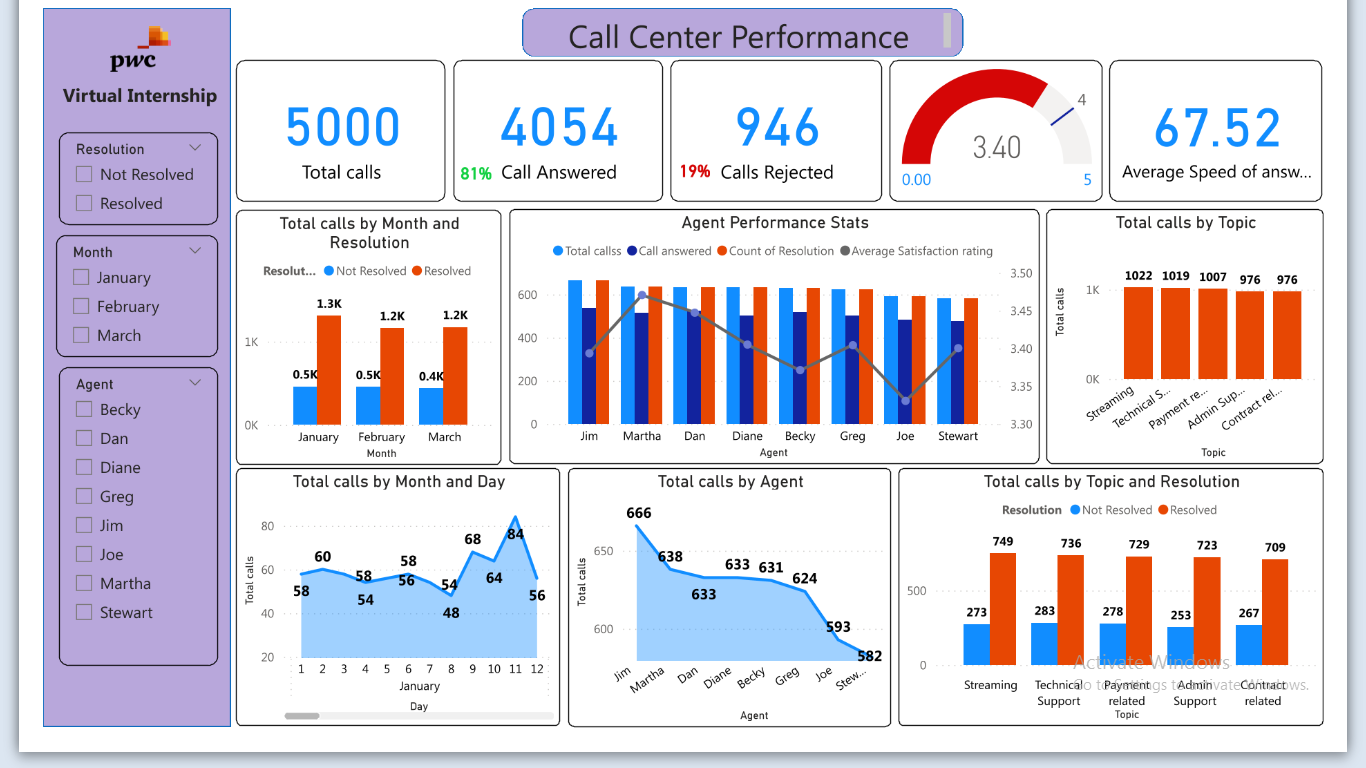

What the dashboard file says about the page in this screenshot:
{"tool":"powerbi","page":{"name":"Performance analysis","canvas":[1280,720],"ordinal":0},"visuals":[{"type":"shape","box":[478.6,0,441.2,48.9],"z":0},{"type":"shape","box":[0,0,188.3,718.6],"z":1000},{"type":"card","title":"Total calls","fields":{"Values":["Sheet1.Total calls"]},"box":[192.6,51.7,209.8,142.3],"z":2000},{"type":"areaChart","fields":{"Category":["PWC call center analysis.Agent"],"Y":["PWC call center analysis.Total calls"]},"box":[524.5,460.2,323.3,258.3],"z":3000},{"type":"card","title":"Answered calls","fields":{"Values":["Sheet1.call answered"]},"box":[409.9,51.7,209.8,142.3],"z":4000},{"type":"card","title":"Calls rejected","fields":{"Values":["Sheet1.call abonded"]},"box":[627.3,51.7,211.3,142.3],"z":5000},{"type":"card","title":"% of call answered","fields":{"Values":["Sheet1.% of call answered"]},"box":[408.1,150.9,50.3,24.4],"z":6000},{"type":"card","title":"% of call abonded","fields":{"Values":["Sheet1.% of call abonded"]},"box":[628,149.5,47.4,24.4],"z":7000},{"type":"columnChart","fields":{"Category":["PWC call center analysis.Topic"],"Y":["PWC call center analysis.Total calls"]},"box":[1002.6,201.2,277.4,254.4],"z":8000},{"type":"areaChart","fields":{"Category":["PWC call center analysis.Date.Variation.Date Hierarchy.Month","PWC call center analysis.Date.Variation.Date Hierarchy.Day"],"Y":["PWC call center analysis.Total calls"]},"box":[193.3,460,323.3,258.3],"z":9000},{"type":"slicer","title":"Month","fields":{"Values":["PWC call center analysis.Date.Variation.Date Hierarchy.Month"]},"box":[12.9,227.1,162.4,122.2],"z":10000},{"type":"slicer","fields":{"Values":["PWC call center analysis.Agent"]},"box":[15.8,359.3,159.5,298.9],"z":11000},{"type":"clusteredColumnChart","fields":{"Category":["Sheet1.Topic"],"Y":["PWC call center analysis.Total calls"],"Series":["PWC call center analysis.Resolution"]},"box":[855,460,425,258.3],"z":12000},{"type":"gauge","fields":{"Y":["Sheet1.Satisfaction rating"],"MaxValue":["PWC call center analysis.Target"],"TargetValue":["PWC call center analysis.Target 1"]},"box":[846.1,51.7,212.7,142.3],"z":13000},{"type":"card","fields":{"Values":["Sheet1.Speed of answer in seconds"]},"box":[1066.3,51.7,212.7,142.3],"z":14000},{"type":"clusteredColumnChart","fields":{"Category":["PWC call center analysis.Date.Variation.Date Hierarchy.Month"],"Y":["PWC call center analysis.Total calls"],"Series":["PWC call center analysis.Resolution"]},"box":[193.3,201.7,265,255],"z":15000},{"type":"lineClusteredColumnComboChart","title":"Agent Performance Stats","fields":{"Category":["Sheet1.Agent"],"Y":["Sheet1.Total callss","PWC call center analysis.call answered","PWC call center analysis.Resolution"],"Y2":["Sheet1.Satisfaction rating"]},"box":[465.6,201.2,530.3,254.4],"z":16000},{"type":"textbox","box":[485.7,0,426.8,48.9],"z":17000},{"type":"image","box":[54.6,12.9,84.8,56],"z":18000},{"type":"textbox","box":[1.4,69,191.1,53.2],"z":19000},{"type":"slicer","fields":{"Values":["PWC call center analysis.Resolution"]},"box":[15.8,123.6,159.5,93.4],"z":20000}]}

Visuals, with their boxes in screenshot pixels (x1, y1, x2, y2), scaled from the page's 1280x720 canvas onto the 1366x768 screenshot:
shape: l=511, t=0, r=982, b=52
shape: l=0, t=0, r=201, b=767
"Total calls" card: l=206, t=55, r=429, b=207
areaChart - PWC call center analysis.Agent x PWC call center analysis.Total calls: l=560, t=491, r=905, b=766
"Answered calls" card: l=437, t=55, r=661, b=207
"Calls rejected" card: l=669, t=55, r=895, b=207
"% of call answered" card: l=436, t=161, r=489, b=187
"% of call abonded" card: l=670, t=159, r=721, b=185
columnChart - PWC call center analysis.Topic x PWC call center analysis.Total calls: l=1070, t=215, r=1365, b=486
areaChart - PWC call center analysis.Date.Variation.Date Hierarchy.Month x PWC call center analysis.Date.Variation.Date Hierarchy.Day: l=206, t=491, r=551, b=766
"Month" slicer: l=14, t=242, r=187, b=373
slicer - PWC call center analysis.Agent: l=17, t=383, r=187, b=702
clusteredColumnChart - Sheet1.Topic x PWC call center analysis.Total calls: l=912, t=491, r=1365, b=766
gauge - Sheet1.Satisfaction rating x PWC call center analysis.Target: l=903, t=55, r=1130, b=207
card - Sheet1.Speed of answer in seconds: l=1138, t=55, r=1365, b=207
clusteredColumnChart - PWC call center analysis.Date.Variation.Date Hierarchy.Month x PWC call center analysis.Total calls: l=206, t=215, r=489, b=487
"Agent Performance Stats" lineClusteredColumnComboChart: l=497, t=215, r=1063, b=486
textbox: l=518, t=0, r=974, b=52
image: l=58, t=14, r=149, b=73
textbox: l=1, t=74, r=205, b=130
slicer - PWC call center analysis.Resolution: l=17, t=132, r=187, b=231
